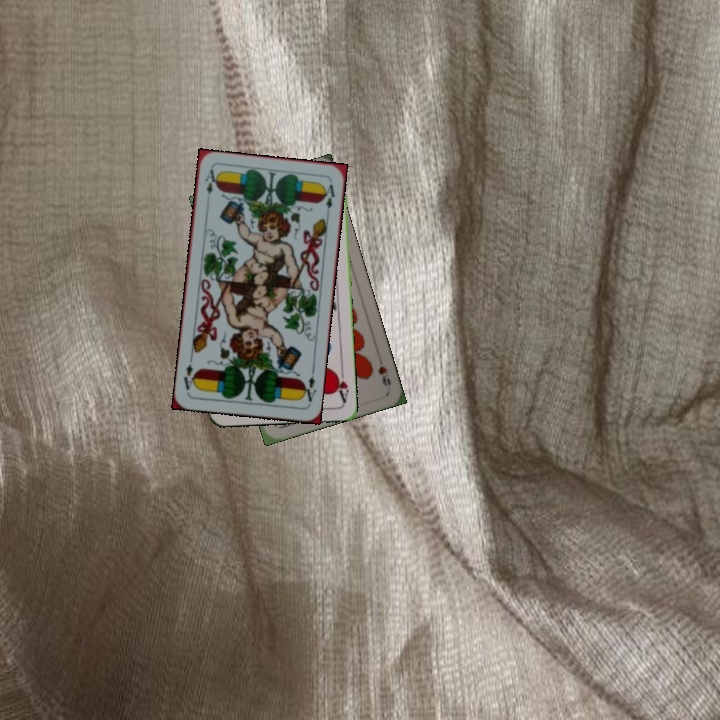EA: (298, 366, 319, 404), (201, 165, 220, 197)
H9: (374, 362, 394, 390)
HA: (331, 364, 351, 404)
